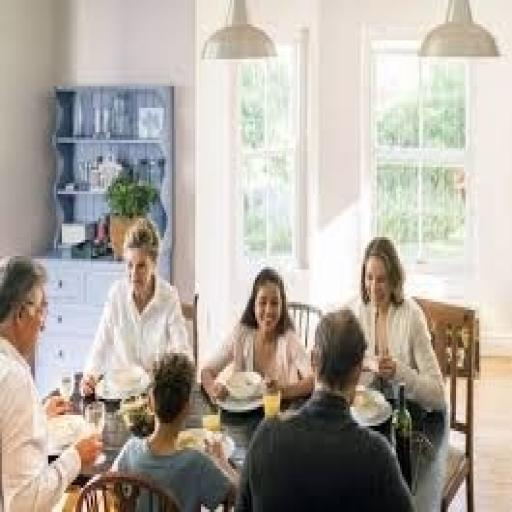eating: (0, 213, 452, 509), (232, 304, 417, 510), (0, 250, 104, 509), (79, 213, 193, 401)
